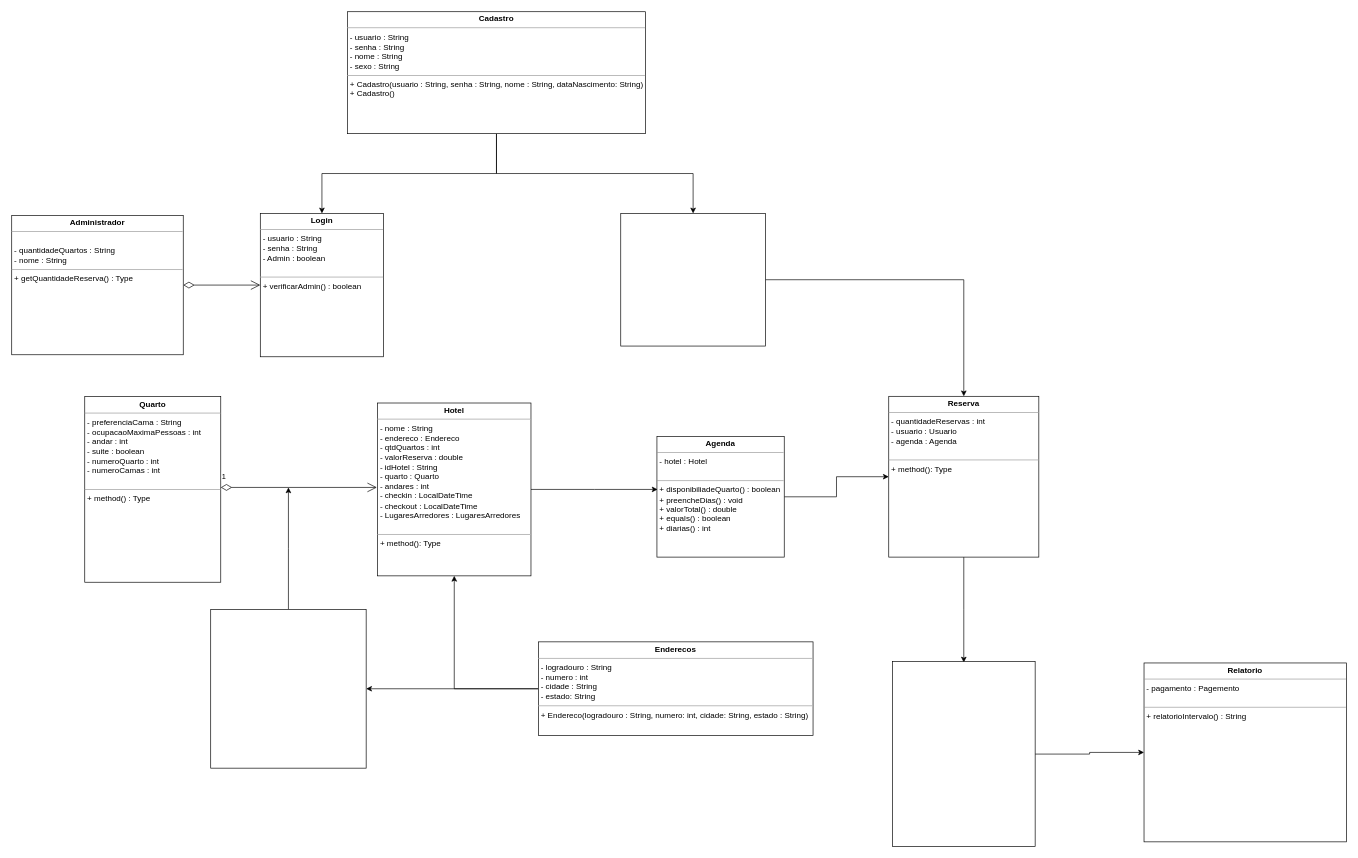
The diagram is 1358 pixels wide and 858 high, and some of its shapes have lost their labels. Each missing label, with the centre of its shape:
"LugaresArredores - nomeDoLugar : String - tipoDoLugar : String + method(): Type" goes at (x=288, y=688).
"Pagamento - reserva: Reserva - tipoPagamento : String + method(): Type + a" goes at (x=963, y=754).
"Usuario - cadastro : Cadastro + method(): Type" goes at (x=692, y=279).
